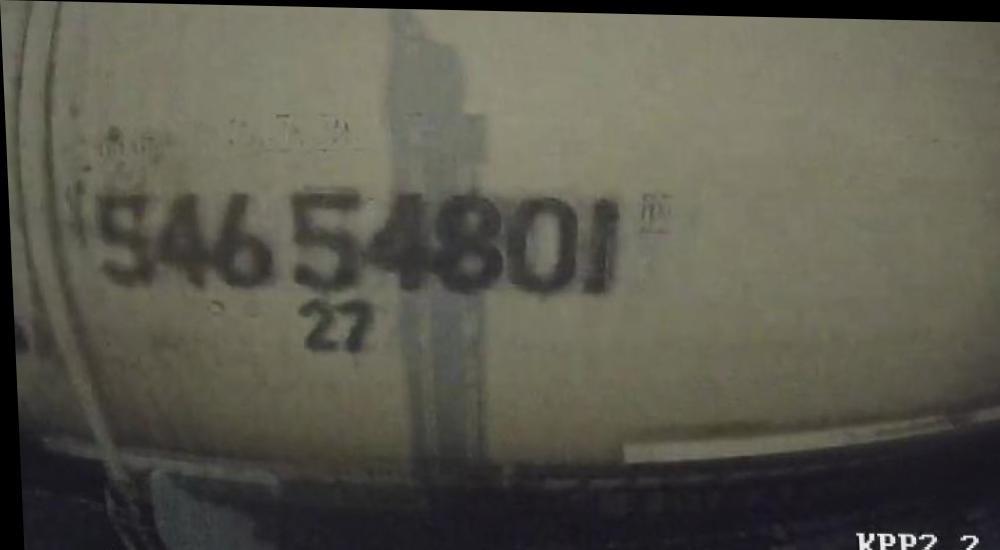Wagon-number: (86, 176, 625, 300)
